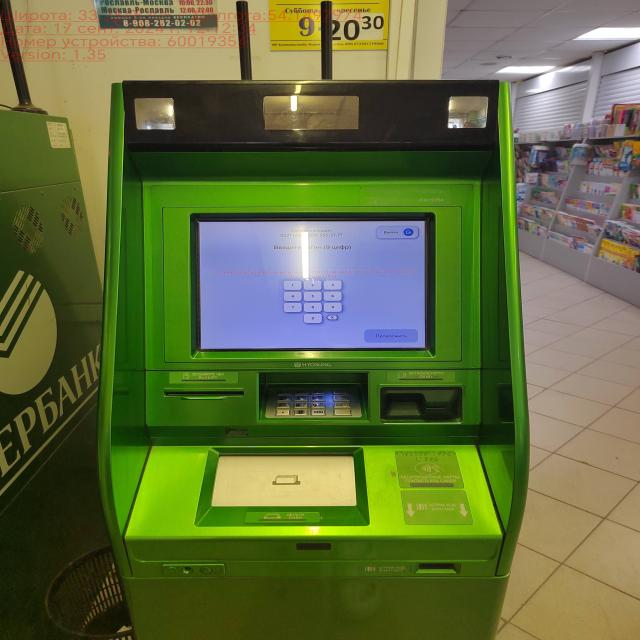bank: (100, 78, 531, 640), (0, 103, 107, 640)
